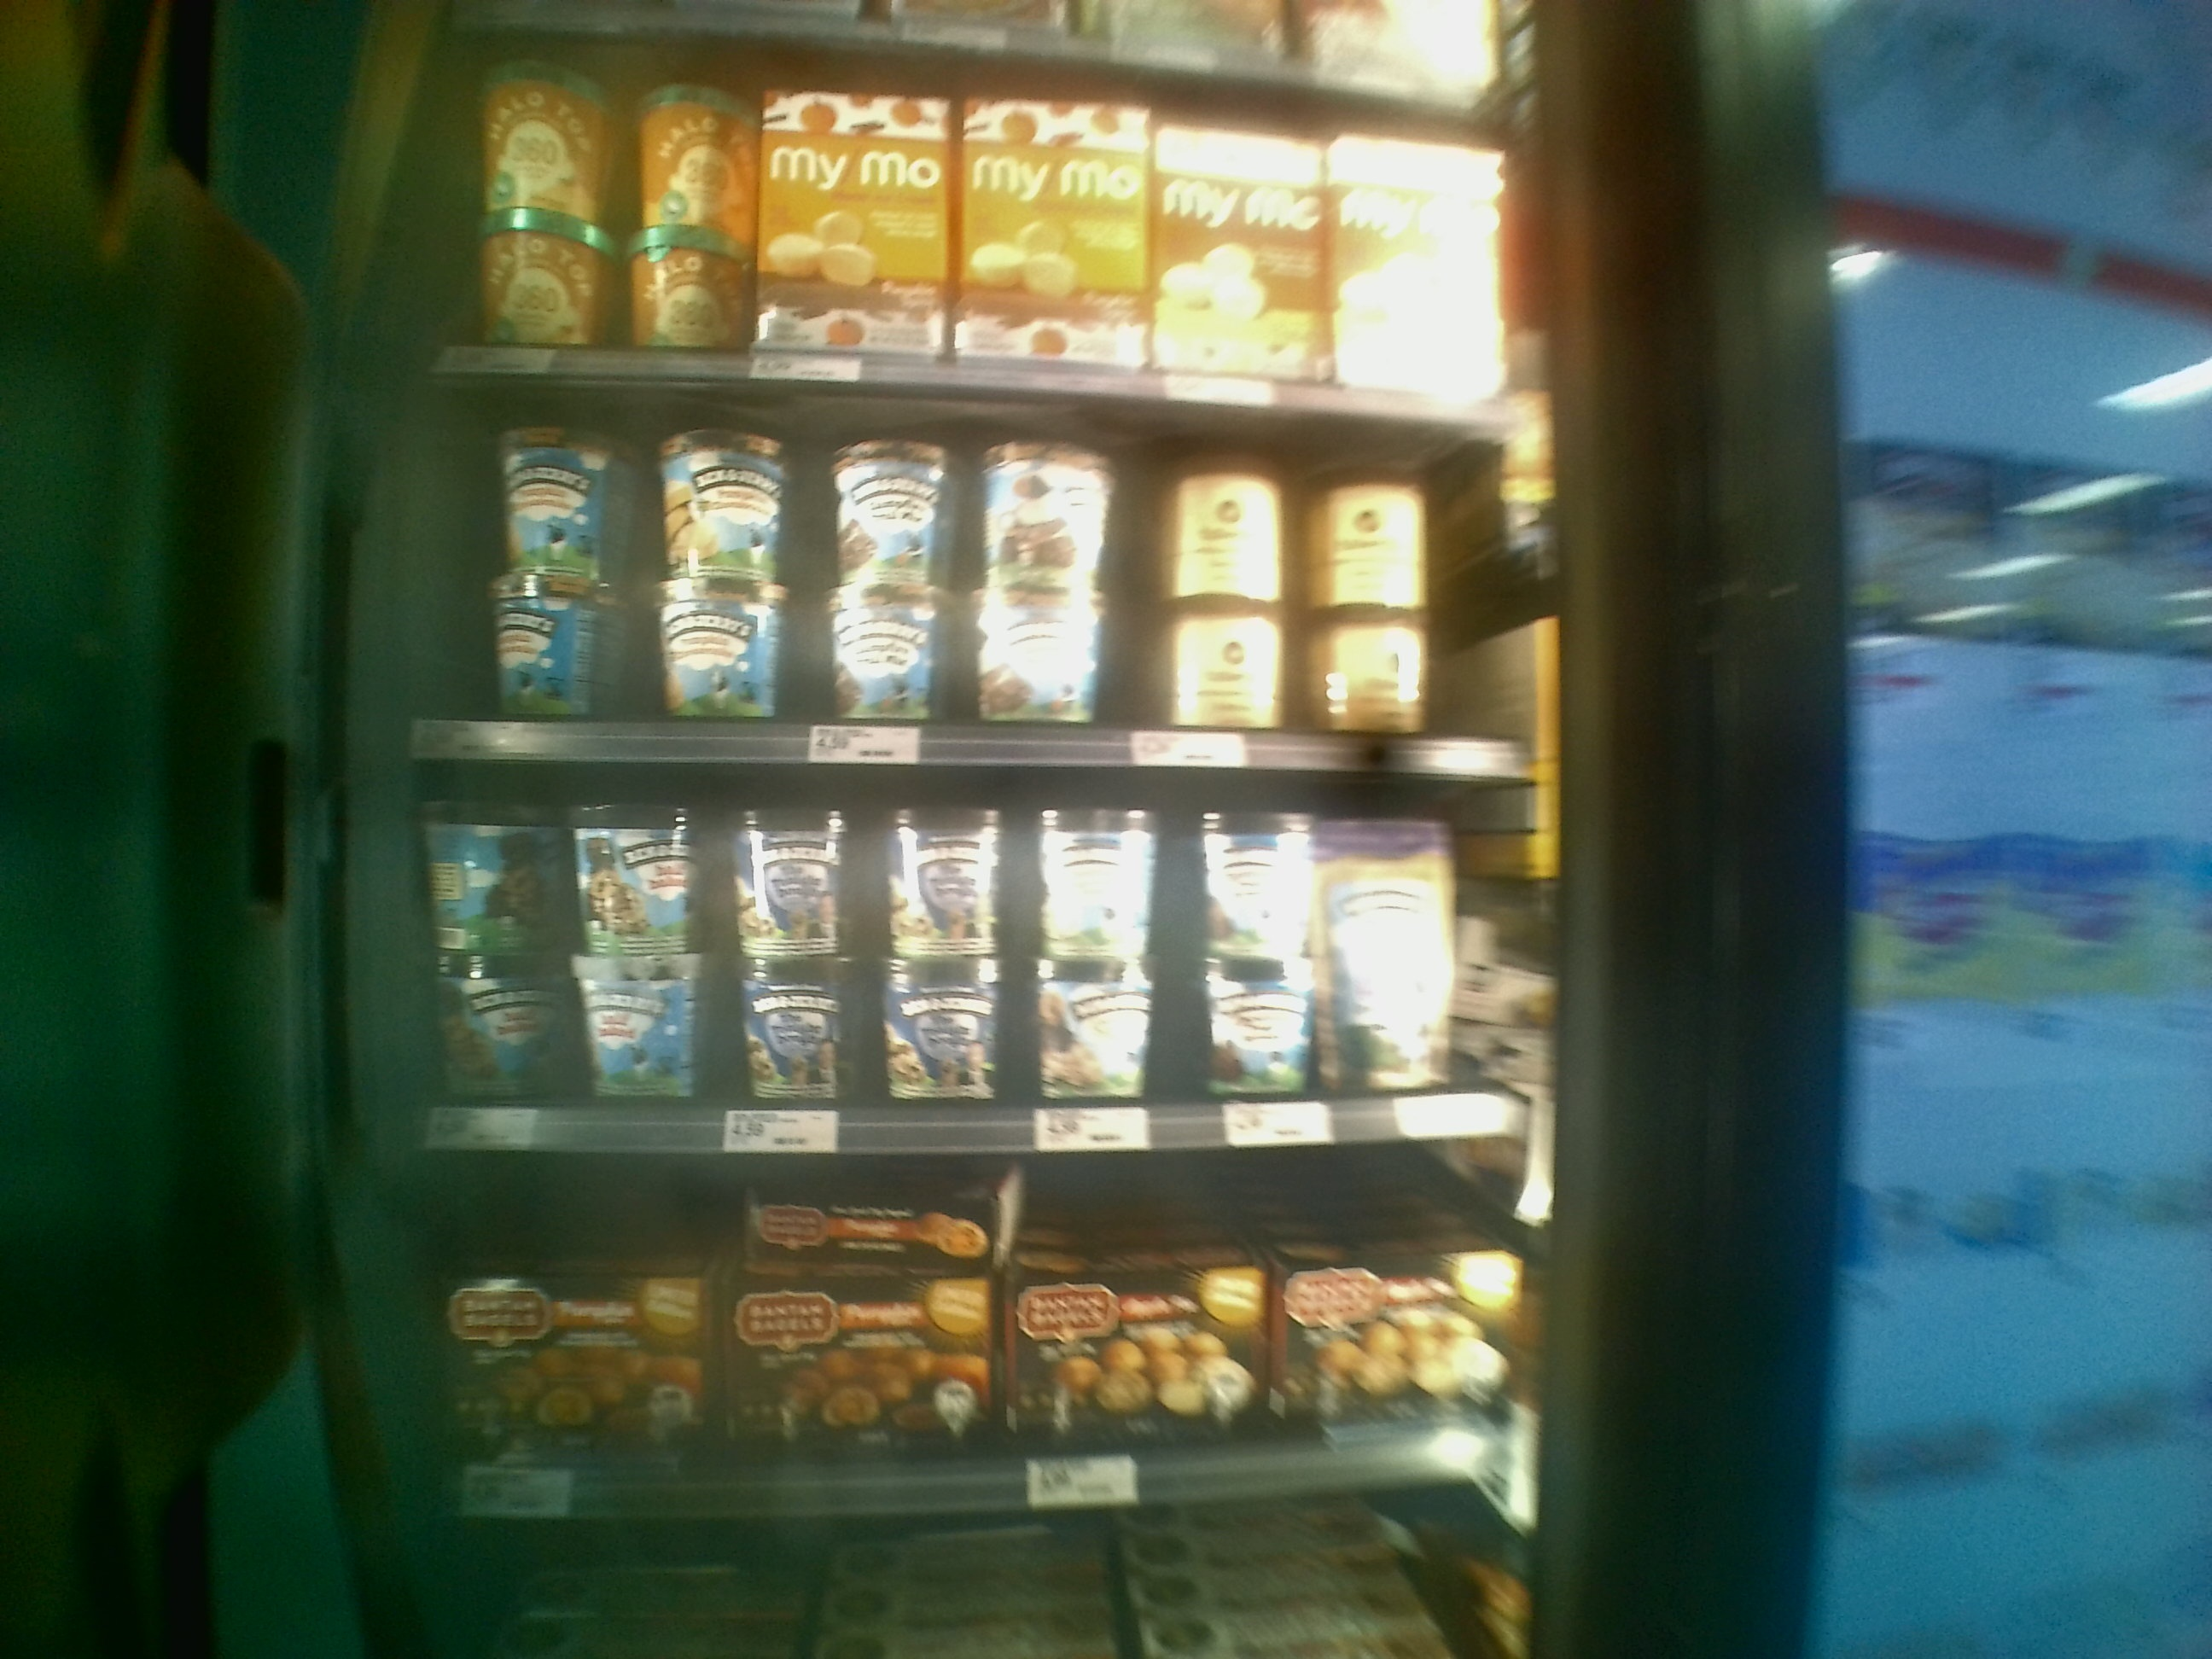shelf: (376, 364, 1575, 775), (366, 758, 1550, 1140), (364, 1121, 1548, 1500)
